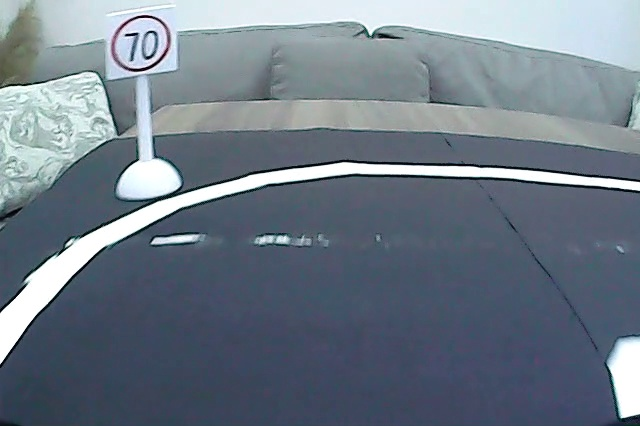speed limit 70: (106, 11, 172, 74)
